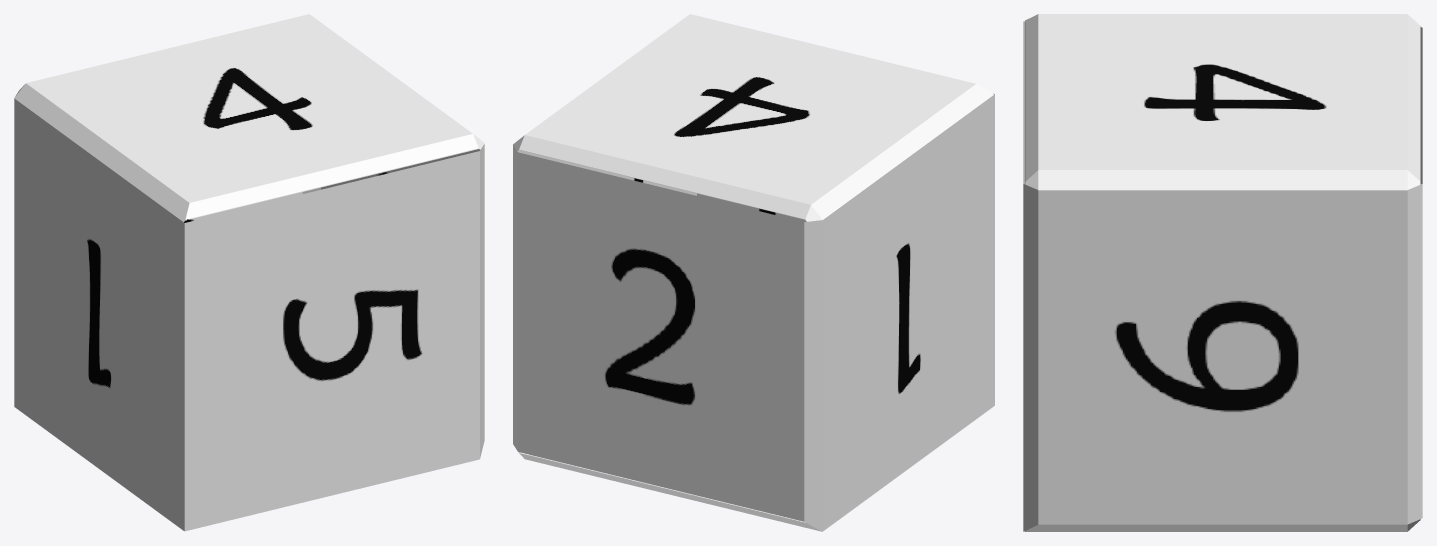
The model's file is white_die.fbx.
3 renders of one model, left to right at view 1: azimuth 30°, elevation 25°; view 2: azimuth 150°, elevation 25°; view 3: azimuth 270°, elevation 25°, orthographic. The views are drawn at different scales.
Parts seen in each view (by area): view 1: Cube; view 2: Cube; view 3: Cube.
Boxes of the visible parts, x1=… form: Cube: x1=14, y1=14, x2=484, y2=531; Cube: x1=513, y1=14, x2=994, y2=531; Cube: x1=1023, y1=14, x2=1422, y2=531.
Bounding box in the file's own units: 200 × 200 × 200.
Materials: 1 (1 with a texture image).
